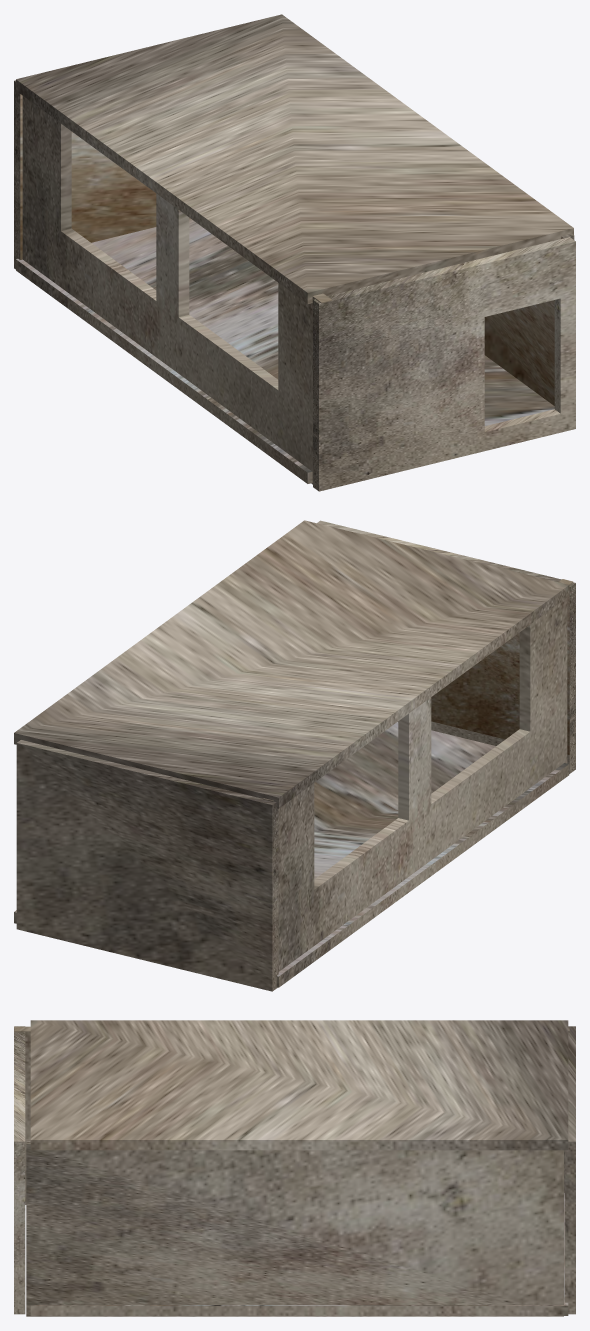
Rendered from Shooting_Range.fbx.
The picture shows the model from 3 angles, top to bottom: view 1: azimuth 30°, elevation 25°; view 2: azimuth 150°, elevation 25°; view 3: azimuth 270°, elevation 25°; orthographic projection. The views are drawn at different scales.
Visible parts, largest first — view 1: shooting_range; view 2: shooting_range; view 3: shooting_range.
Boxes of the visible parts, bbox=[...] form: shooting_range: bbox=[14, 14, 575, 491]; shooting_range: bbox=[14, 520, 575, 991]; shooting_range: bbox=[14, 1020, 575, 1316].
Bounding box in the file's own units: 710 × 491 × 1409.
